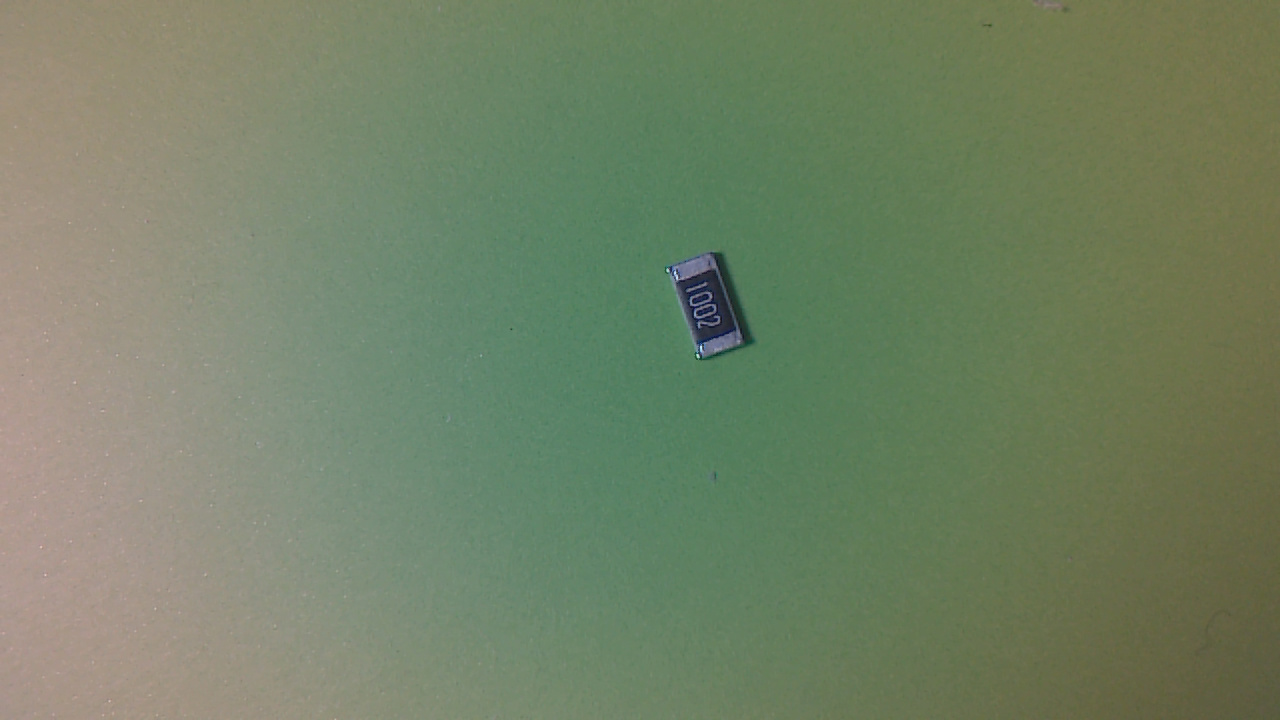Resistor: (673, 251, 760, 374)
